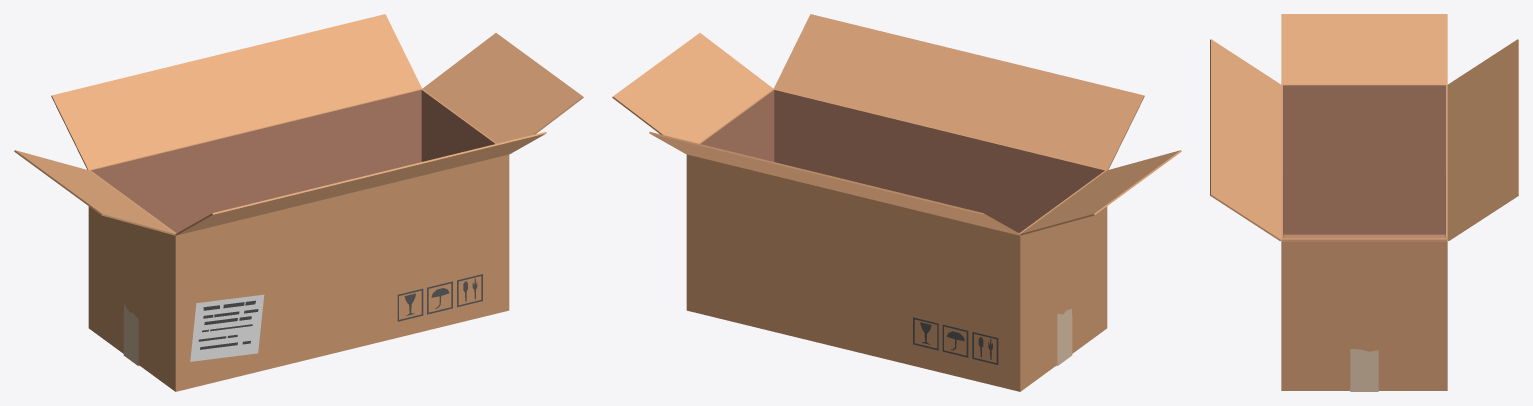
The model's file is SM_Boxes_03.fbx.
The picture shows the model from 3 angles, left to right: view 1: azimuth 30°, elevation 25°; view 2: azimuth 150°, elevation 25°; view 3: azimuth 270°, elevation 25°; orthographic projection. The views are drawn at different scales.
Parts seen in each view (by area): view 1: SM_Boxes_03; view 2: SM_Boxes_03; view 3: SM_Boxes_03.
Boxes of the visible parts, x1=… form: SM_Boxes_03: x1=14, y1=14, x2=583, y2=391; SM_Boxes_03: x1=612, y1=14, x2=1181, y2=391; SM_Boxes_03: x1=1210, y1=14, x2=1518, y2=391.
Size of the model in its own units: 50.1 by 20.49 by 29.1.
